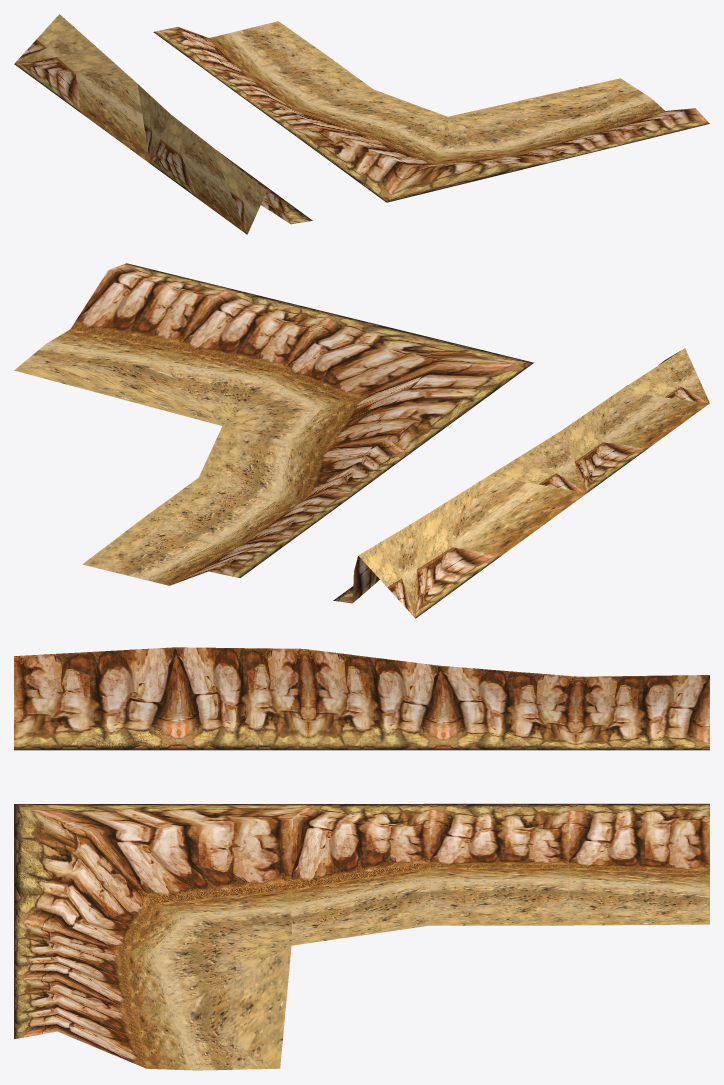
The model's file is us_cany_mid_end.fbx.
3 views of the same model, one above another, from view 1: azimuth 30°, elevation 25°; view 2: azimuth 150°, elevation 25°; view 3: azimuth 270°, elevation 25° (orthographic). The views are drawn at different scales.
Visible parts, largest first — view 1: us_cany_mid_end; view 2: us_cany_mid_end; view 3: us_cany_mid_end.
Part boxes in pixels (bbox=[...]): us_cany_mid_end: bbox=[14, 14, 709, 234]; us_cany_mid_end: bbox=[14, 263, 709, 618]; us_cany_mid_end: bbox=[14, 647, 709, 1070].
Size of the model in its own units: 11509 by 1559 by 10000.
